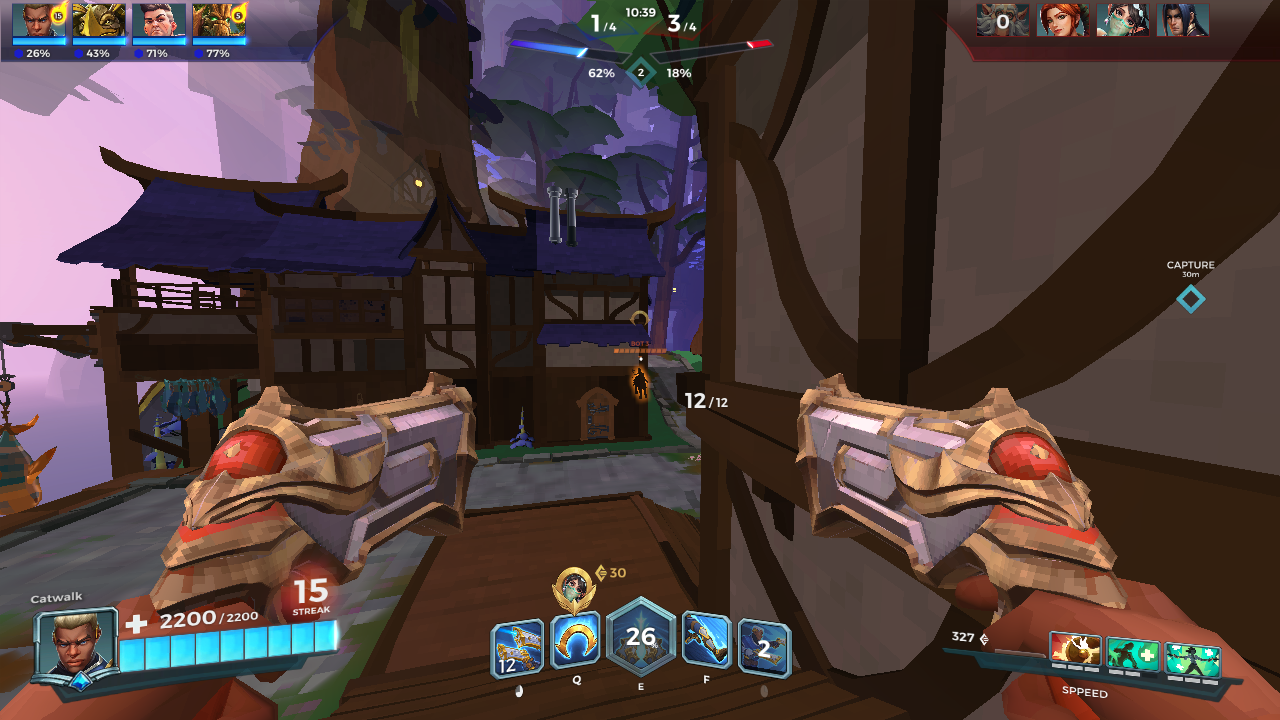model: (634, 365, 648, 402)
